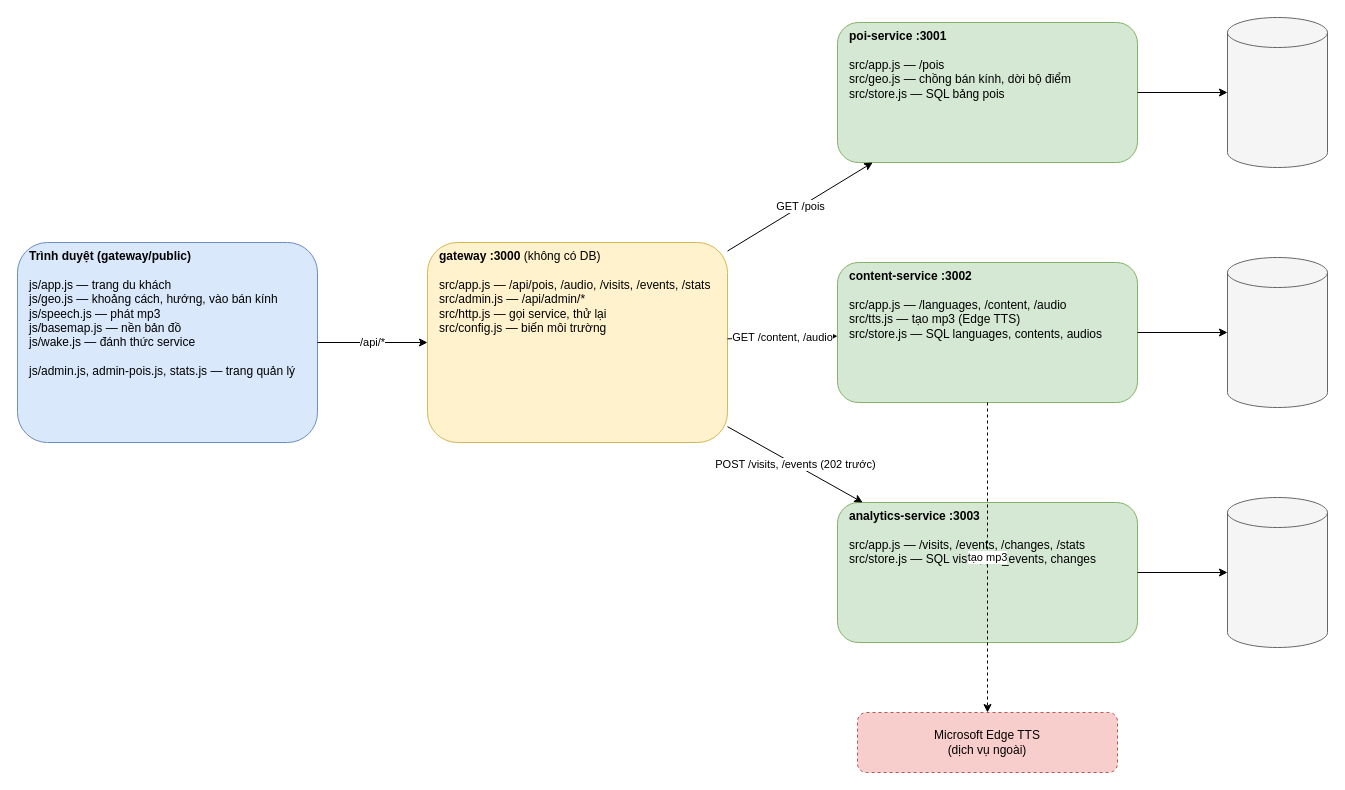
Image size: 1345x790. Some labels were removed from this diagram. The shapes that lost their labels are listed below. From the top down, each one's centre as x and y in pixels, then its label:
At point (1277, 92): "DB poi pois".
At point (1277, 332): "DB content languages contents audios".
At point (1277, 572): "DB analytics visits poi_events changes".
